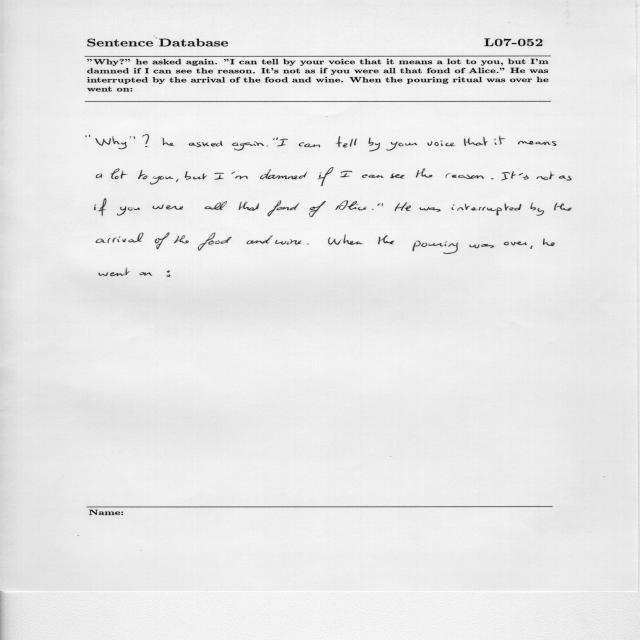word: (452, 203, 522, 216), (198, 233, 232, 251), (413, 241, 458, 254), (95, 136, 135, 149), (268, 201, 300, 217), (96, 233, 144, 243), (260, 170, 307, 180), (328, 234, 363, 245), (232, 141, 264, 151), (336, 201, 367, 211), (318, 167, 334, 186), (387, 142, 418, 151), (309, 201, 326, 217), (99, 268, 130, 276), (246, 236, 273, 245), (155, 233, 170, 249), (445, 173, 484, 179), (504, 242, 533, 250), (336, 137, 357, 148), (117, 206, 140, 216), (464, 137, 488, 146), (189, 141, 223, 147), (95, 199, 107, 216), (185, 171, 207, 180), (205, 201, 227, 210), (530, 202, 544, 216), (518, 141, 556, 146), (239, 202, 260, 211), (150, 176, 173, 184), (111, 169, 127, 180), (369, 138, 381, 152), (428, 141, 455, 147), (275, 239, 302, 245), (394, 203, 411, 212), (153, 205, 183, 210), (416, 169, 432, 178), (537, 172, 555, 180), (554, 203, 572, 211), (378, 235, 394, 244), (231, 172, 248, 180), (501, 172, 516, 181), (494, 135, 506, 145), (174, 236, 189, 244), (276, 138, 288, 147), (299, 143, 320, 148), (420, 207, 441, 212), (543, 238, 555, 246), (138, 170, 147, 180), (163, 138, 174, 146), (362, 174, 384, 178), (390, 174, 405, 179), (340, 171, 352, 177), (142, 135, 149, 145), (214, 173, 224, 180), (519, 173, 529, 180), (559, 176, 572, 181), (481, 244, 494, 248), (140, 272, 153, 276), (469, 245, 480, 249), (167, 270, 171, 277), (97, 174, 103, 178), (378, 203, 383, 206), (176, 179, 179, 182), (86, 135, 90, 137), (491, 178, 494, 180), (273, 138, 275, 140), (145, 146, 147, 147), (372, 209, 374, 210), (307, 244, 309, 245), (267, 146, 268, 146)
